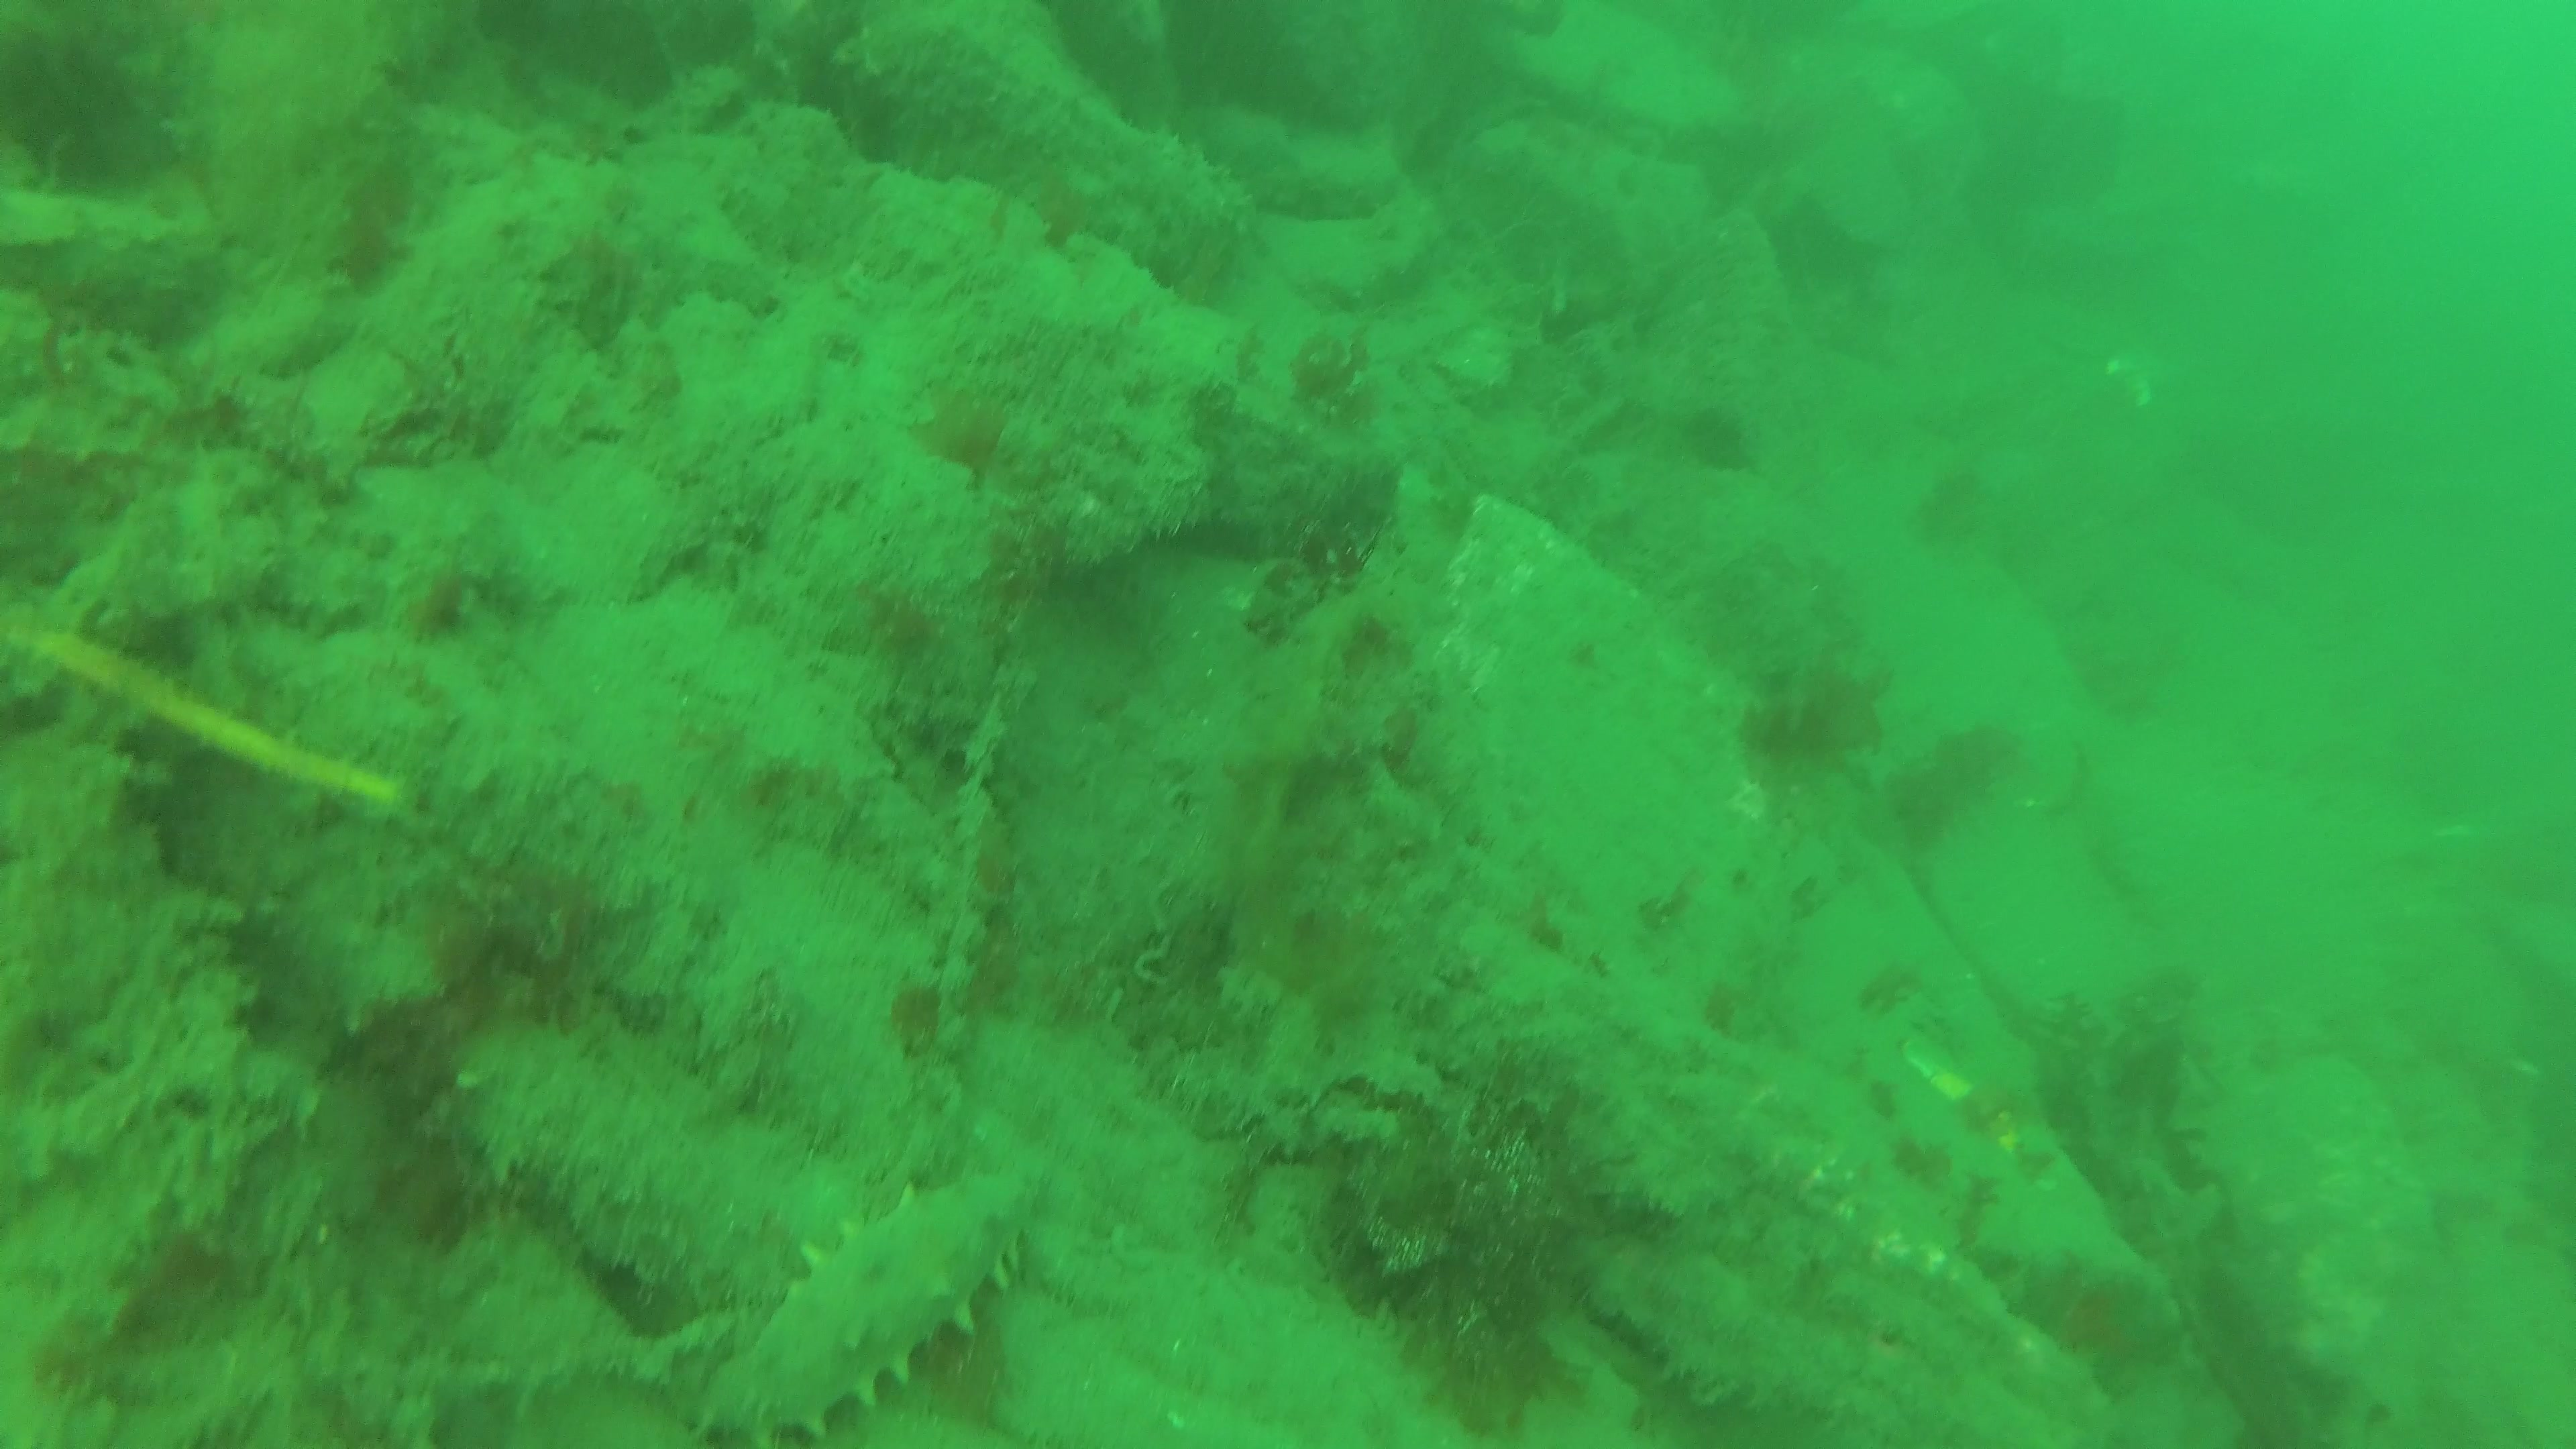holothurian: (681, 1164, 1049, 1449)
